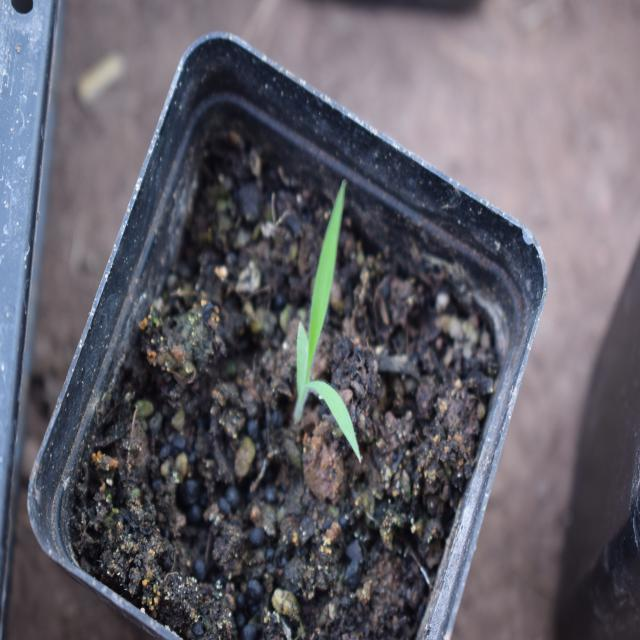crabgrass: (261, 164, 396, 460)
